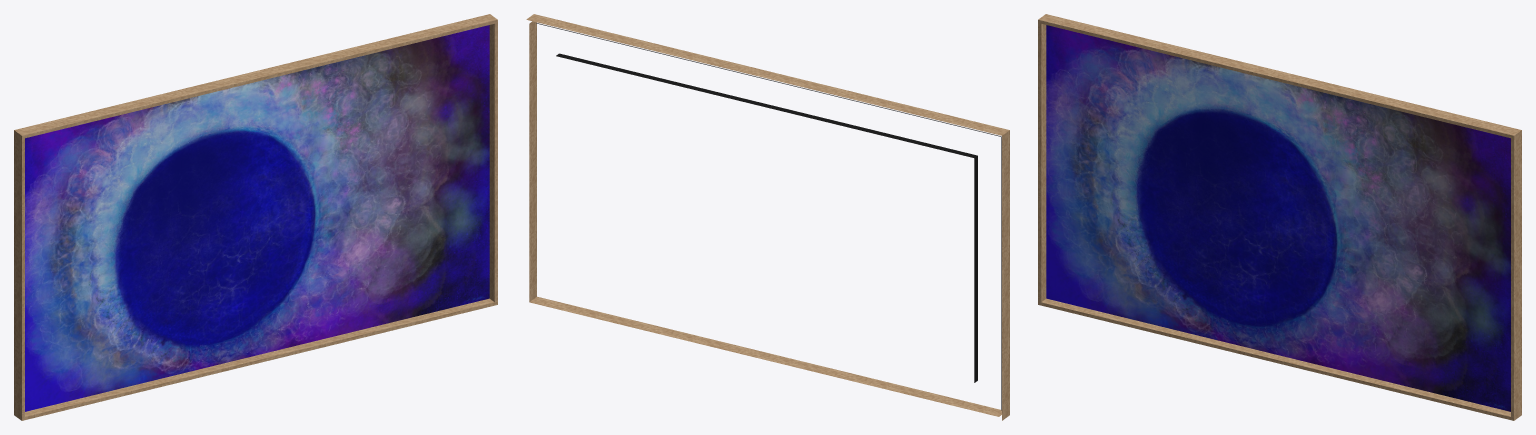
The model's file is hz016_grand_caisse-chene.glb.
The picture shows the model from 3 angles, left to right: view 1: azimuth 30°, elevation 25°; view 2: azimuth 150°, elevation 25°; view 3: azimuth 330°, elevation 25°; orthographic projection.
Visible parts, largest first — view 1: hz016_grand_caisse-chene; view 2: hz016_grand_caisse-chene; view 3: hz016_grand_caisse-chene.
Boxes of the visible parts, bbox=[...] form: hz016_grand_caisse-chene: bbox=[14, 14, 497, 420]; hz016_grand_caisse-chene: bbox=[526, 14, 1009, 420]; hz016_grand_caisse-chene: bbox=[1038, 14, 1521, 420].
Bounding box in the file's own units: 1.23 × 0.703 × 0.035.
4 materials, 2 textured.
